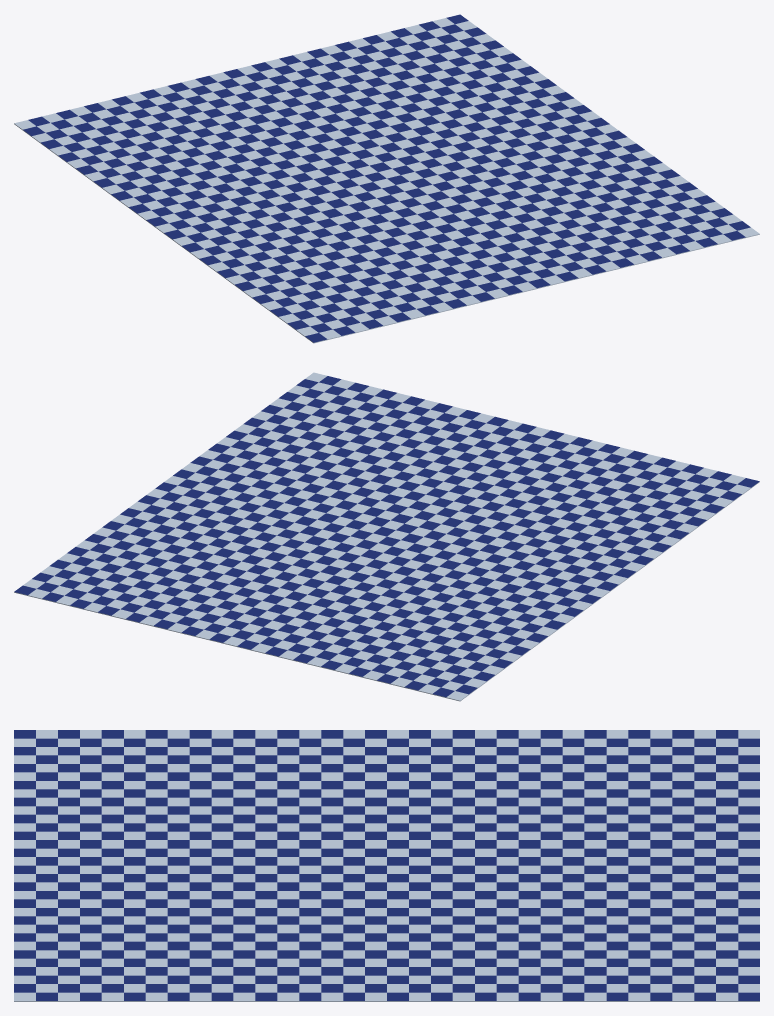
File: Floor.fbx
The picture shows the model from 3 angles, top to bottom: view 1: azimuth 30°, elevation 25°; view 2: azimuth 150°, elevation 25°; view 3: azimuth 270°, elevation 25°; orthographic projection. The views are drawn at different scales.
Visible parts, largest first — view 1: Cube.025; view 2: Cube.025; view 3: Cube.025.
Part boxes in pixels (x1,y1,x2,y2): Cube.025: [14, 14, 759, 343]; Cube.025: [14, 372, 759, 701]; Cube.025: [14, 730, 759, 1001].
Size of the model in its own units: 2580 by 4.14 by 3002.
